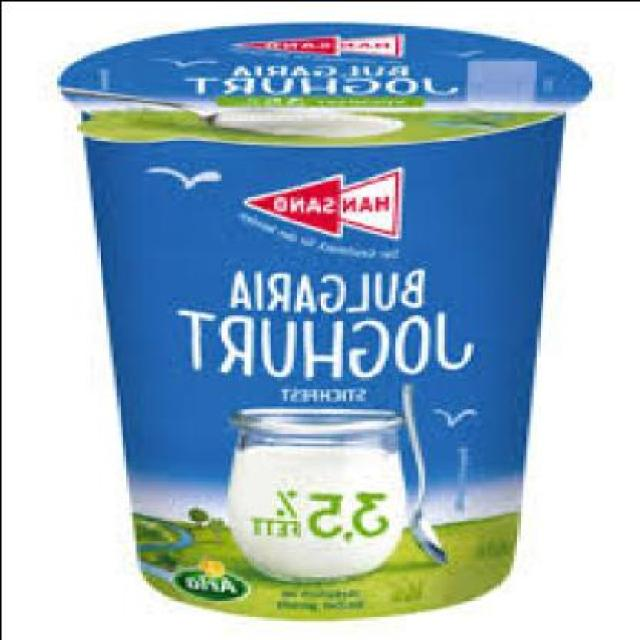PLASTIC: (62, 19, 598, 613)
